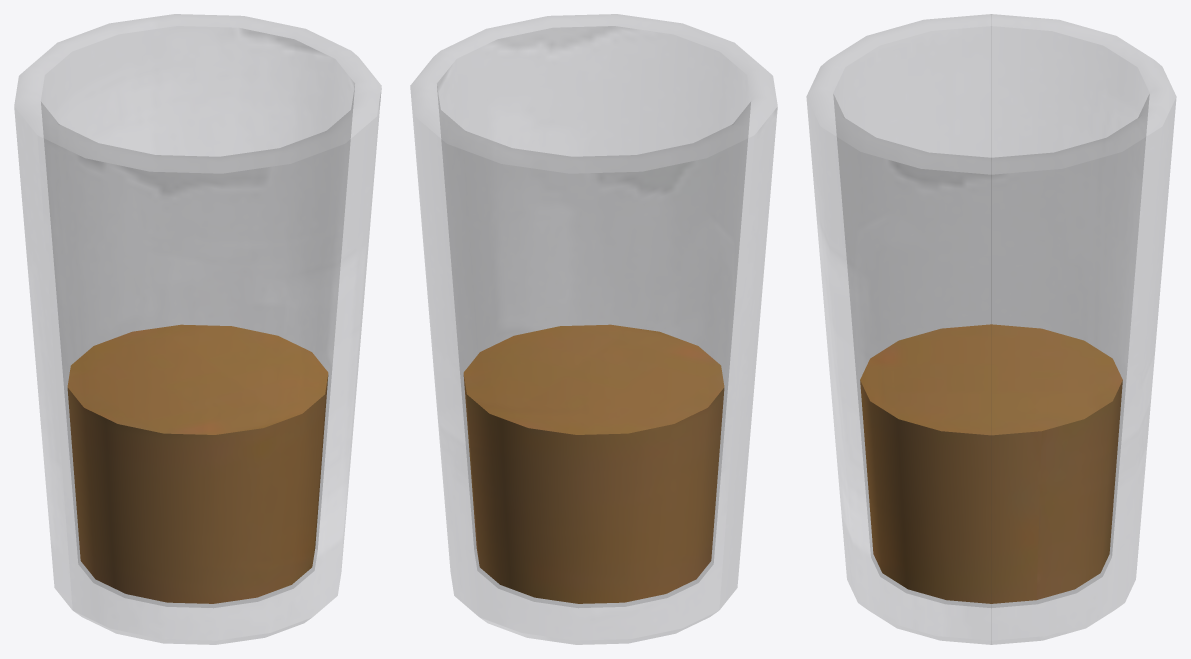
The picture shows the model from 3 angles, left to right: view 1: azimuth 30°, elevation 25°; view 2: azimuth 150°, elevation 25°; view 3: azimuth 270°, elevation 25°; orthographic projection.
Visible parts, largest first — view 1: body0_model0_lod0_mesh0, body0_model0_lod0_mesh1; view 2: body0_model0_lod0_mesh0, body0_model0_lod0_mesh1; view 3: body0_model0_lod0_mesh0, body0_model0_lod0_mesh1.
Part boxes in pixels (x1,y1,x2,y2): body0_model0_lod0_mesh0: (14, 14, 381, 644); body0_model0_lod0_mesh1: (67, 324, 328, 603); body0_model0_lod0_mesh0: (410, 14, 777, 644); body0_model0_lod0_mesh1: (463, 324, 724, 603); body0_model0_lod0_mesh0: (807, 14, 1175, 644); body0_model0_lod0_mesh1: (860, 324, 1122, 603).
Bounding box in the file's own units: 6.23 × 9.27 × 6.23.
Materials: 2 (2 with a texture image).
